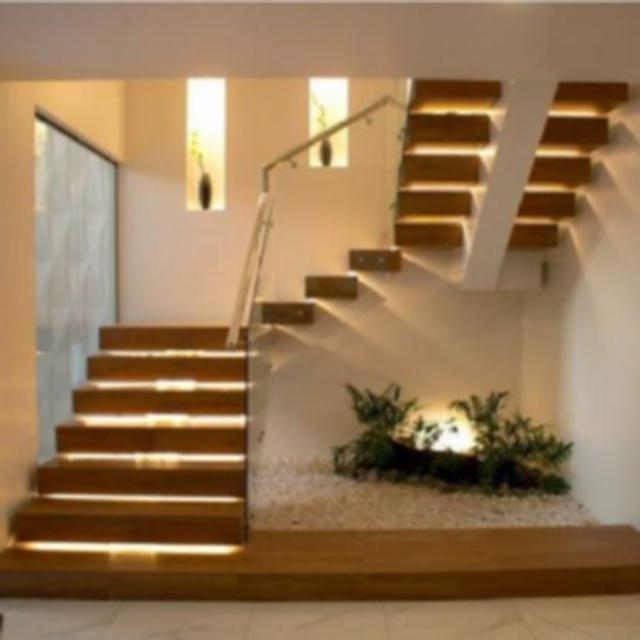stair: (2, 152, 316, 600)
